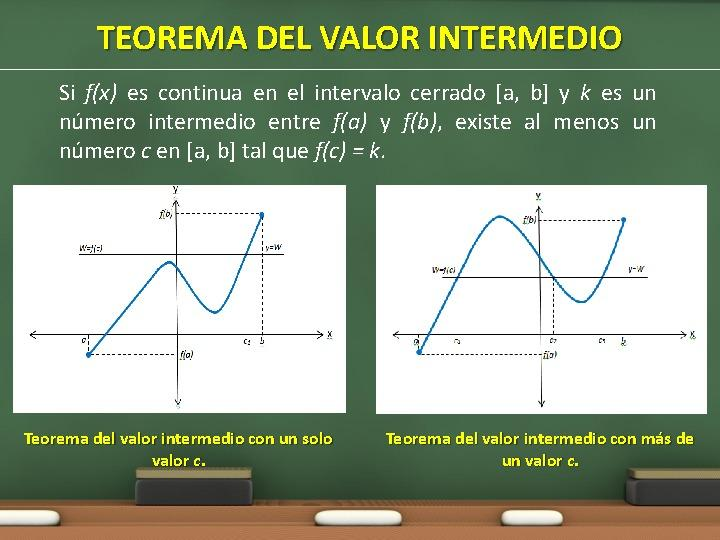paragraph: (7, 71, 713, 481)
title: (90, 16, 626, 61)
